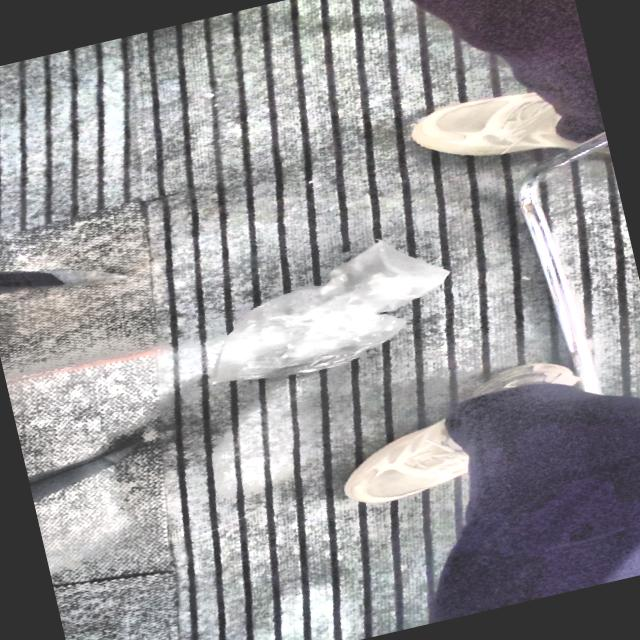plastic bag: (211, 241, 448, 382)
